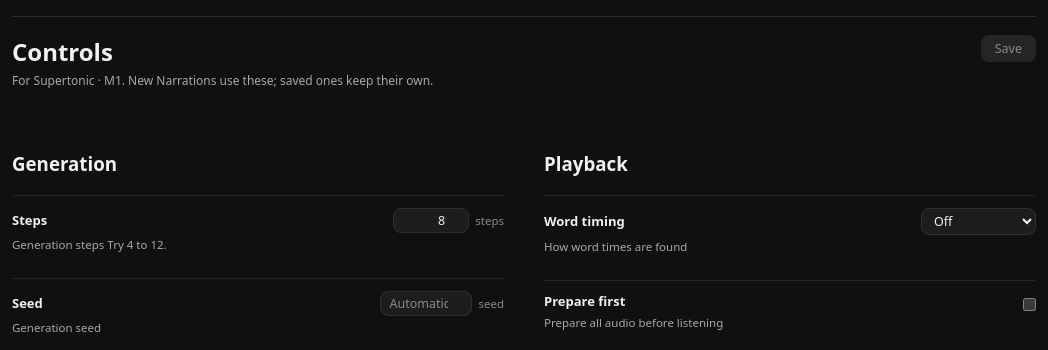
Test: a refused save is reported and the typed value stays on screen
Replace the text in the number field labelled "Steps" with "20". click: (431, 220)
box: [393,208,469,233]
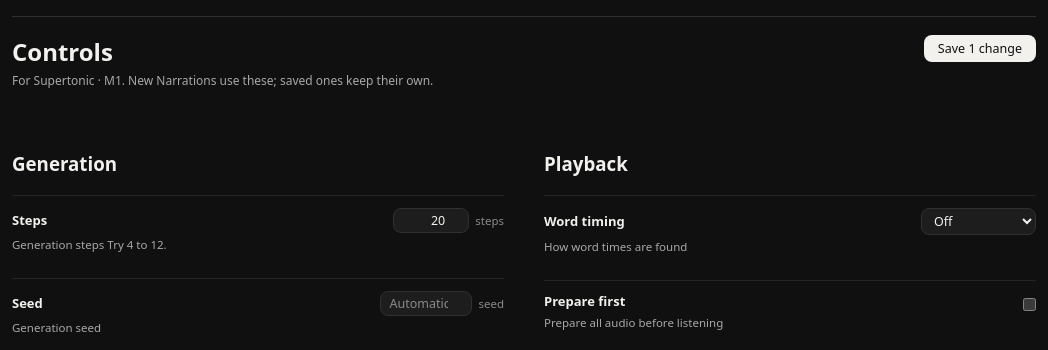
Click the button "Save 1 change". click: (980, 48)
box: [924,35,1036,62]
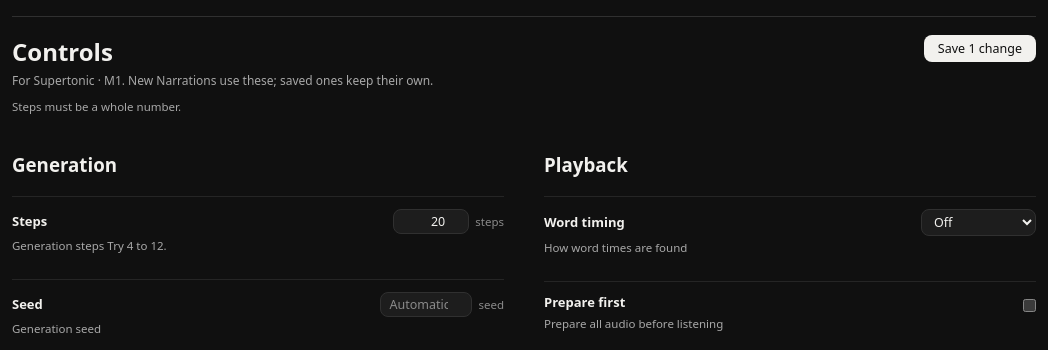
Expected: the text "Steps must be a whole number." is shown, [12,99,181,114]
